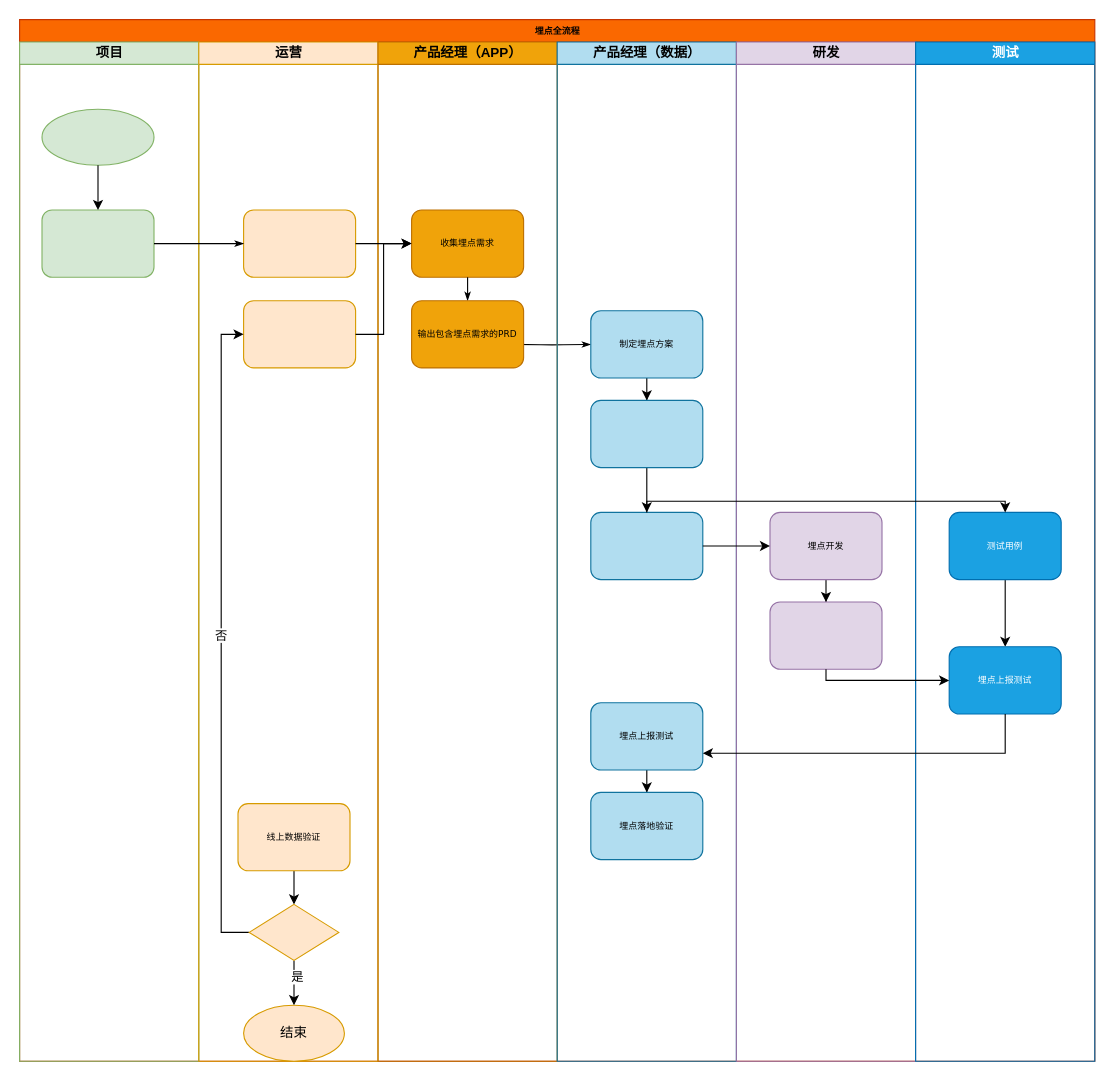
Some shapes in this 1114 by 1081 pixel diagram are drawn without their labels. Each missing label, with the centre of its shape:
"下一版项目规划邮件通知" belongs at point (97, 243).
"埋点评审" belongs at point (646, 433).
"开始" belongs at point (97, 136).
"提出数据需求" belongs at point (299, 243).
"提测" belongs at point (825, 635).
"数据正确" belongs at point (293, 931).
"线上问题反馈" belongs at point (299, 334).
"输出产品确认后的埋点方案" belongs at point (646, 545).
